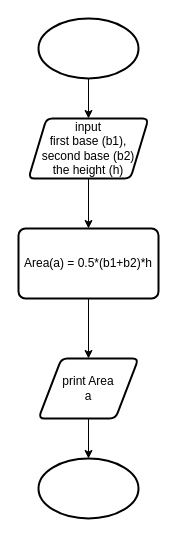
Image size: 176x536. Some labels were removed from this diagram. The centre of each missing label's shape, as x and y in pixels:
"end" goes at point 88,488.
"Start" goes at point 88,48.
